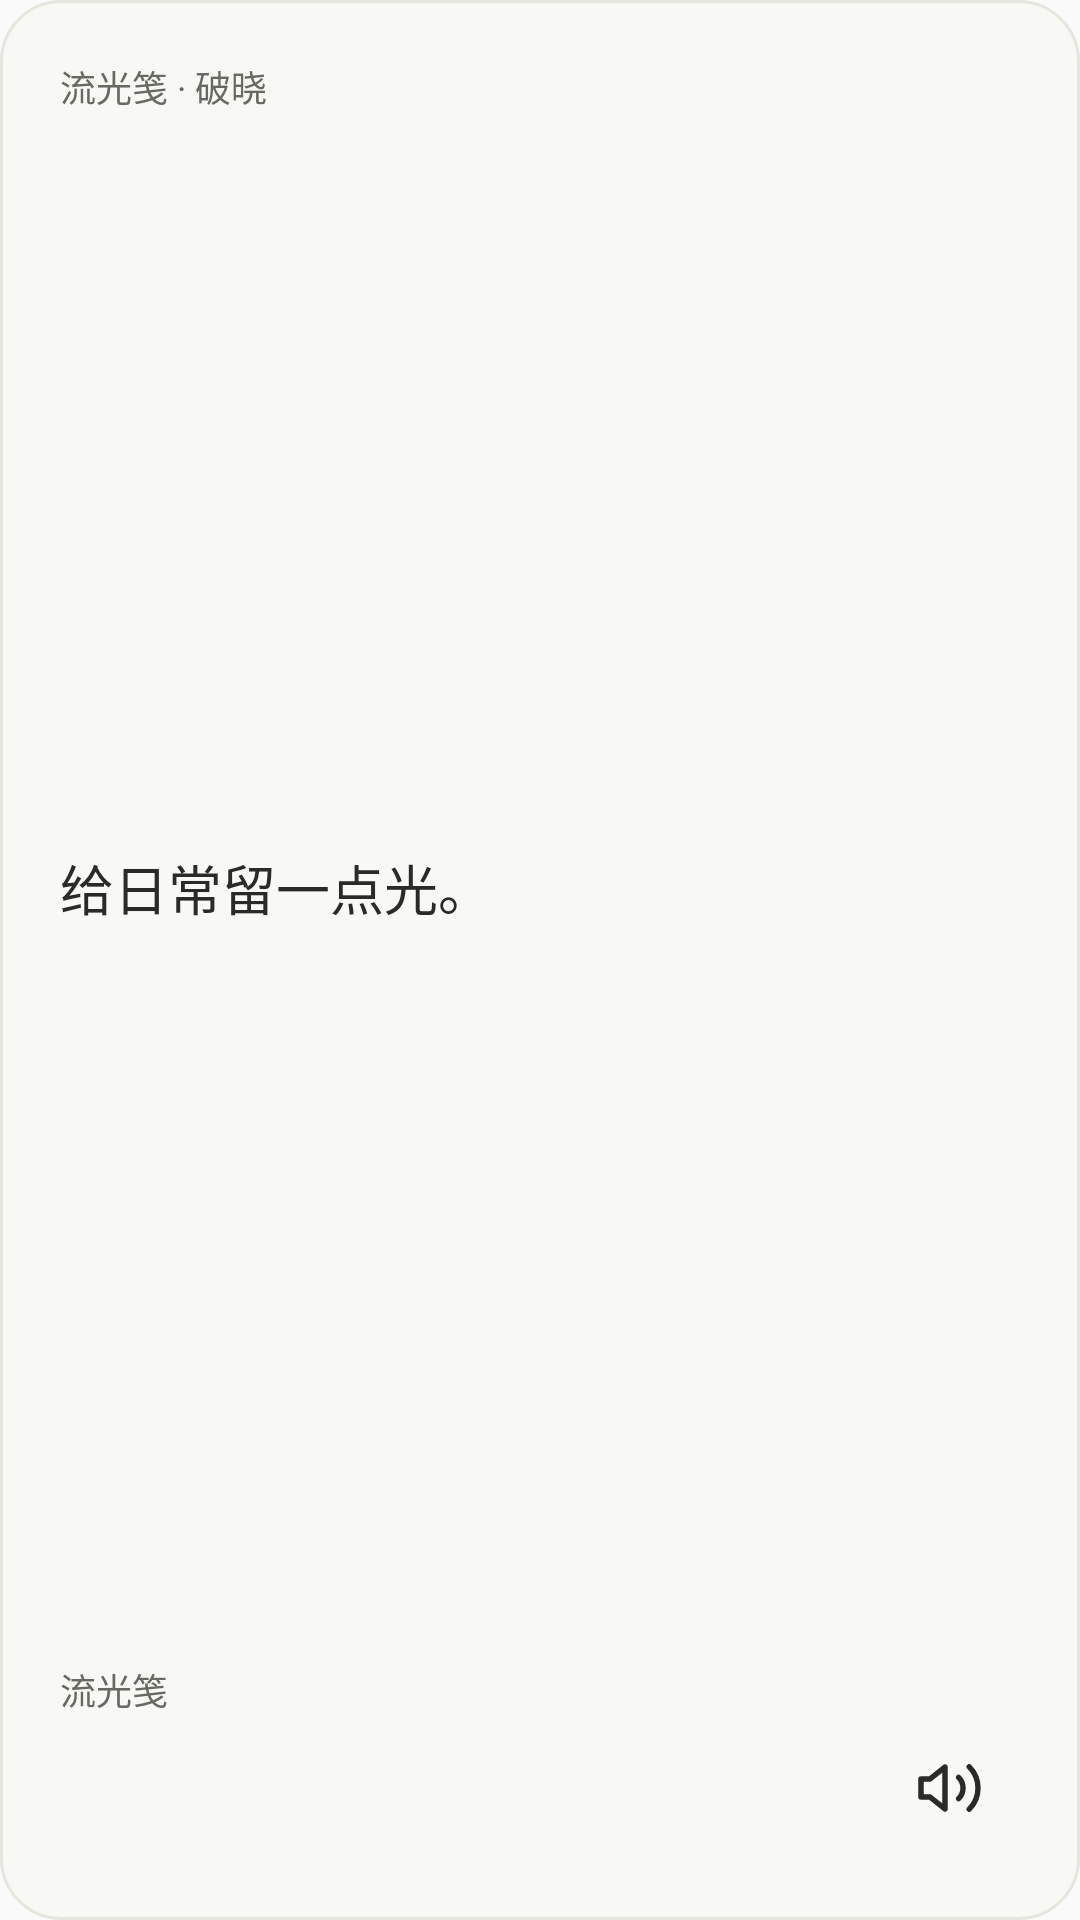

Named icons in this screenshot (1080×1920) and their bounding boxes, [x1=x1, y1=y1, x2=x2, y2=y2]:
播放语录: [x1=918, y1=1764, x2=981, y2=1812]
